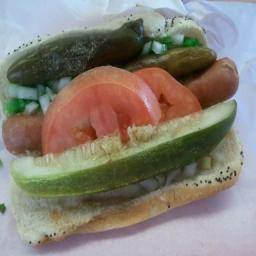hotdog: (2, 108, 45, 163), (184, 75, 246, 105), (206, 56, 244, 75)
